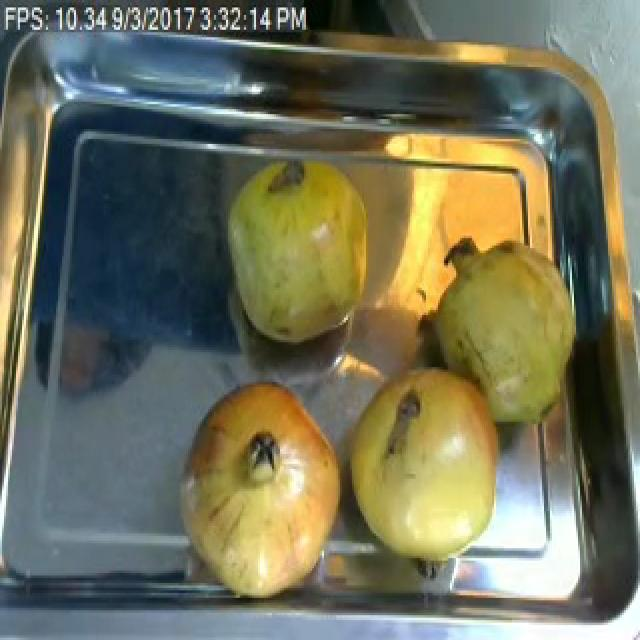fruit: (164, 360, 356, 615), (336, 345, 522, 590), (214, 142, 386, 362)
